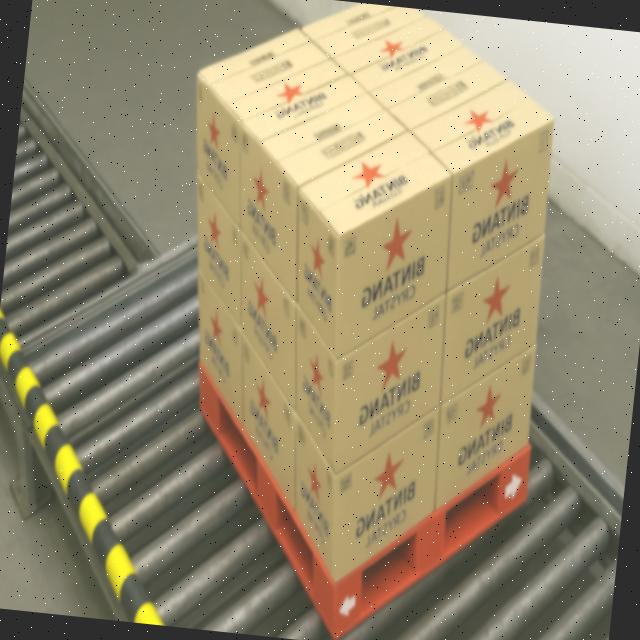pallet: (139, 0, 586, 640)
